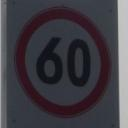speed_limit_60: (18, 8, 110, 119)
